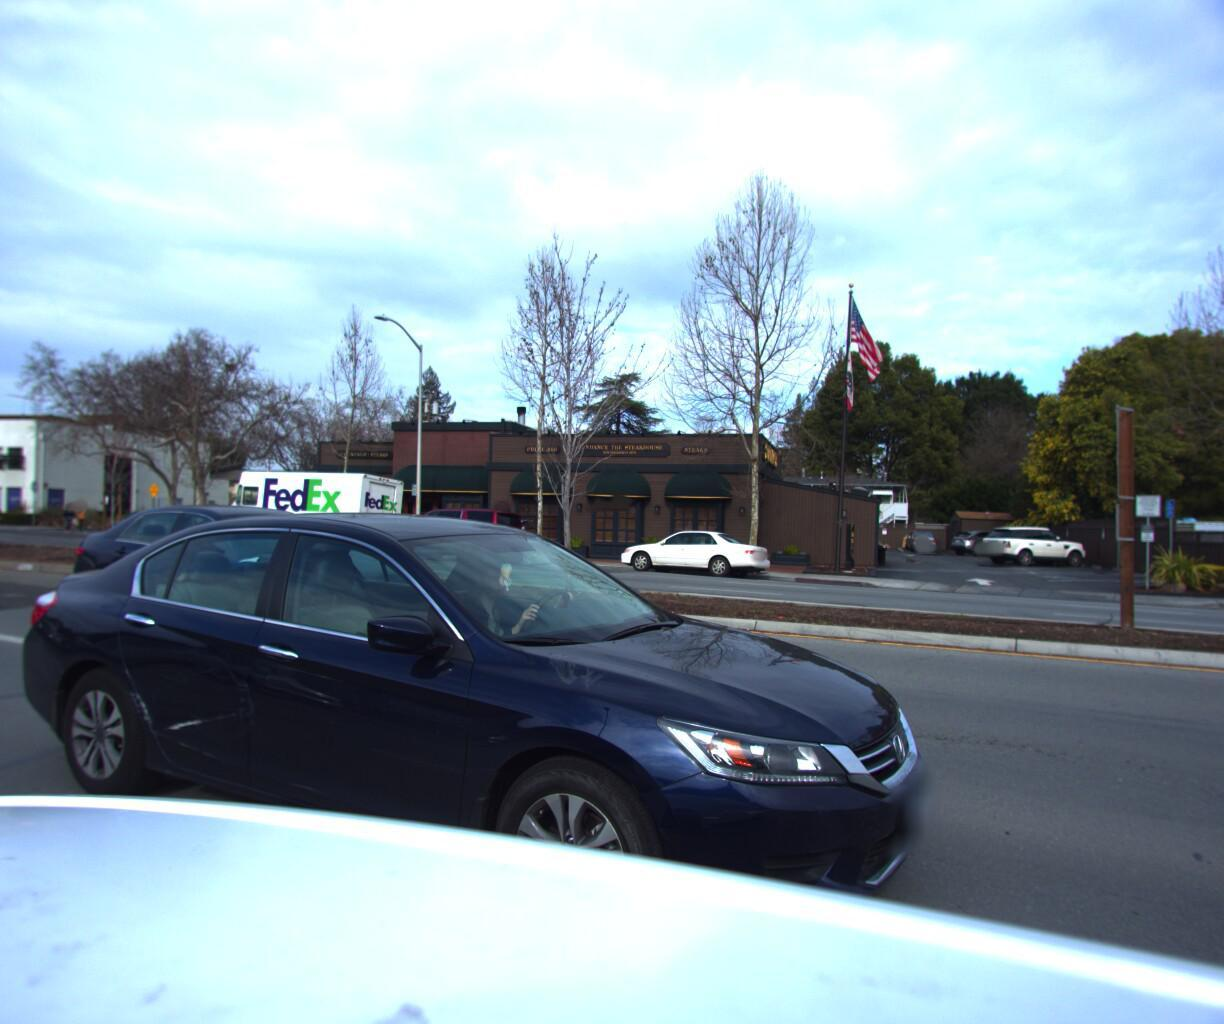car: (0, 503, 931, 1024), (66, 501, 450, 657), (378, 500, 550, 561), (613, 522, 775, 576)
truck: (215, 463, 412, 551)
